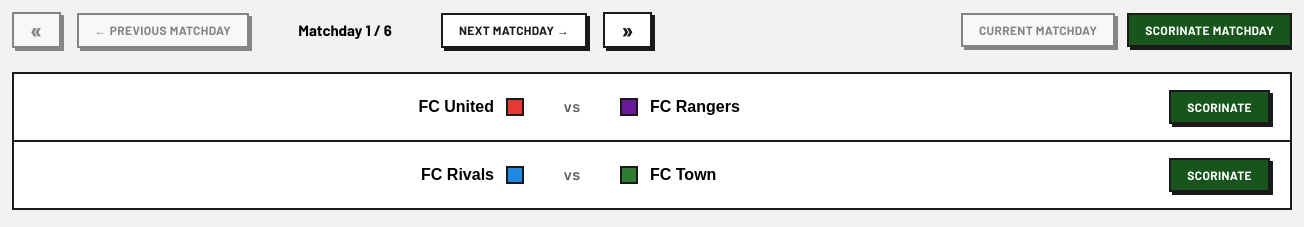
Test case: FixturesView › disables Next on the last matchday
Click the button "Next matchday →" at (514, 30), box [441,12,587,48]
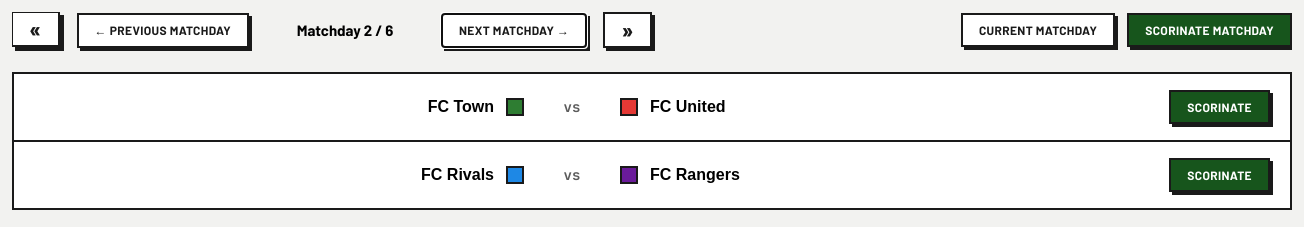
Click the button "Next matchday →" at (514, 30), box [441,12,587,48]
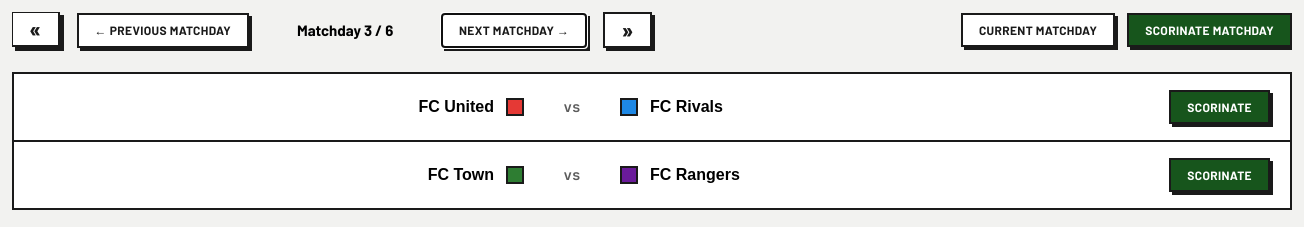
Click the button "Next matchday →" at (514, 30), box [441,12,587,48]
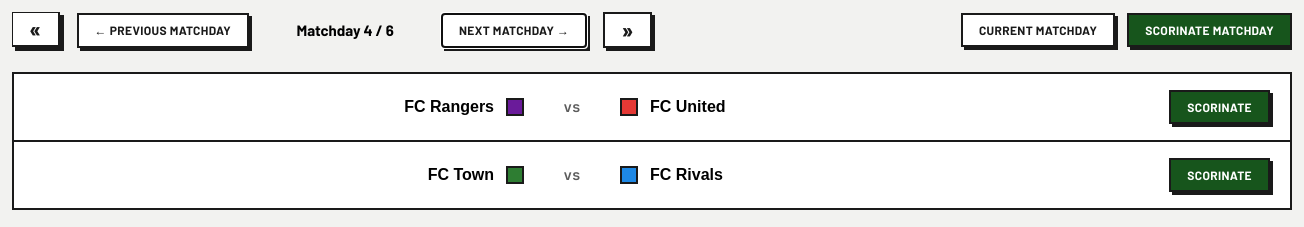
Click the button "Next matchday →" at (514, 30), box [441,12,587,48]
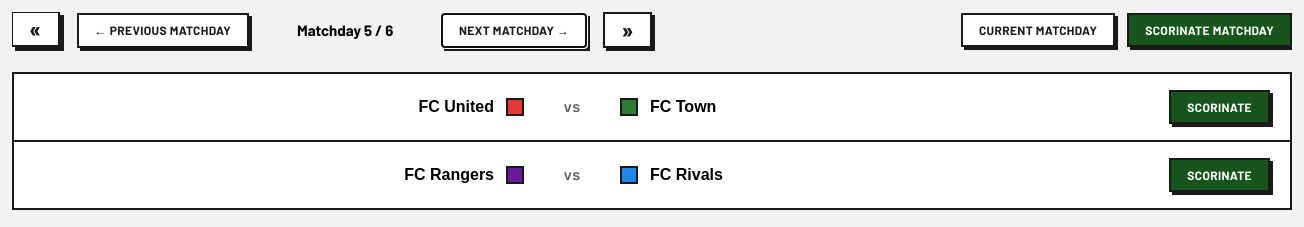
Click the button "Next matchday →" at (514, 30), box [441,12,587,48]
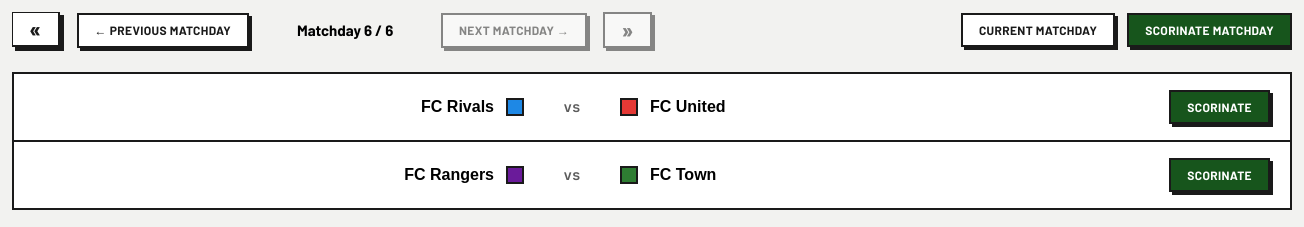
Expected: the button "Next matchday →" is disabled, [441,12,587,48]
